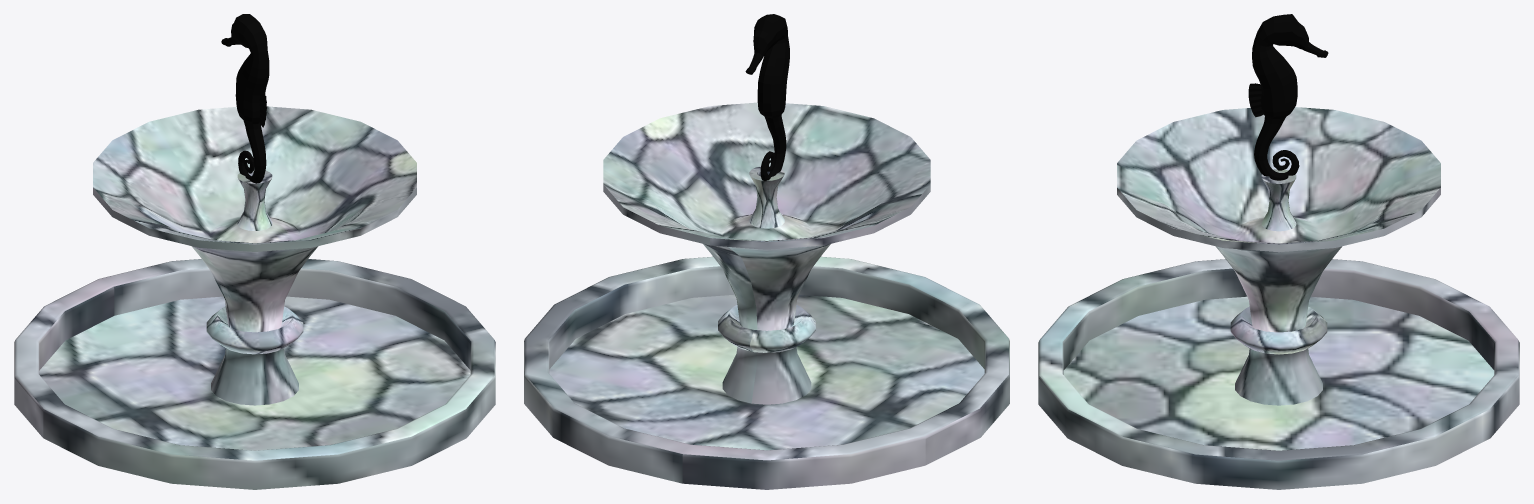
File: Fuente.obj
3 renders of one model, left to right at view 1: azimuth 30°, elevation 25°; view 2: azimuth 150°, elevation 25°; view 3: azimuth 270°, elevation 25°, orthographic.
Visible parts, largest first — view 1: Fuente:fountain, Fuente:Mesh; view 2: Fuente:fountain, Fuente:Mesh; view 3: Fuente:fountain, Fuente:Mesh.
Part boxes in pixels (x1,y1,x2,y2): Fuente:fountain: [14, 106, 495, 489]; Fuente:Mesh: [221, 14, 269, 183]; Fuente:fountain: [524, 102, 1009, 489]; Fuente:Mesh: [745, 14, 789, 181]; Fuente:fountain: [1038, 107, 1519, 489]; Fuente:Mesh: [1248, 14, 1328, 180].
Size of the model in its own units: 5.87 by 4.88 by 5.78.
